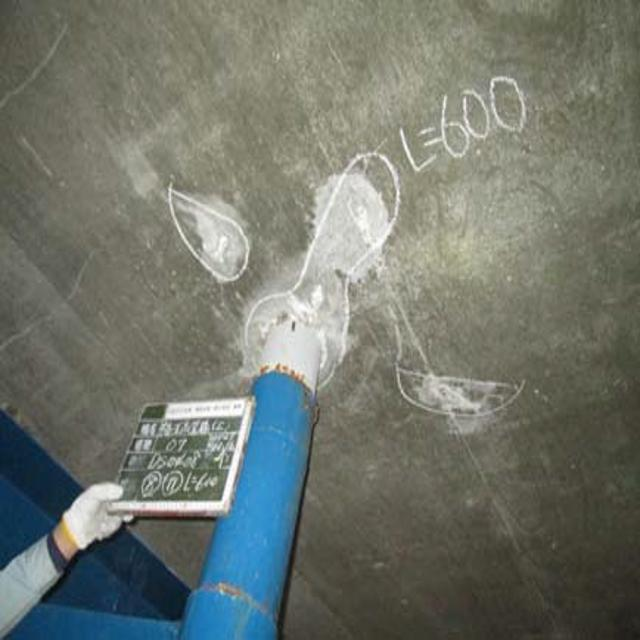freelime: (281, 156, 390, 341), (418, 361, 532, 456), (168, 177, 248, 296)
